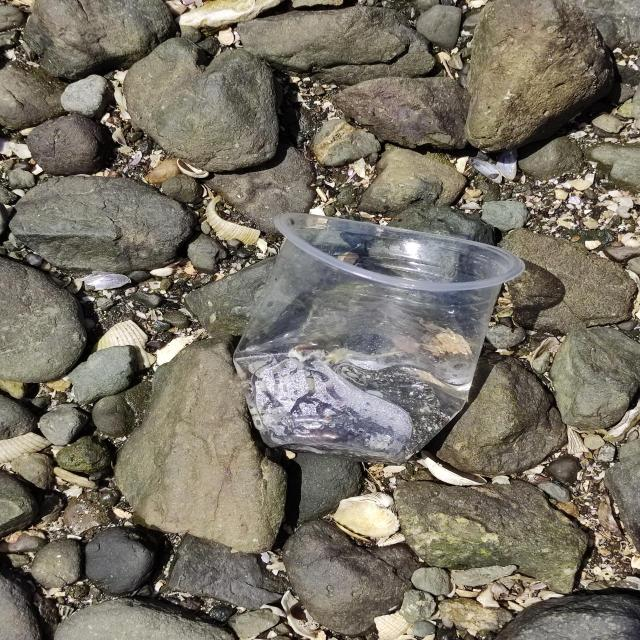plastic_waste: (234, 210, 528, 466)
